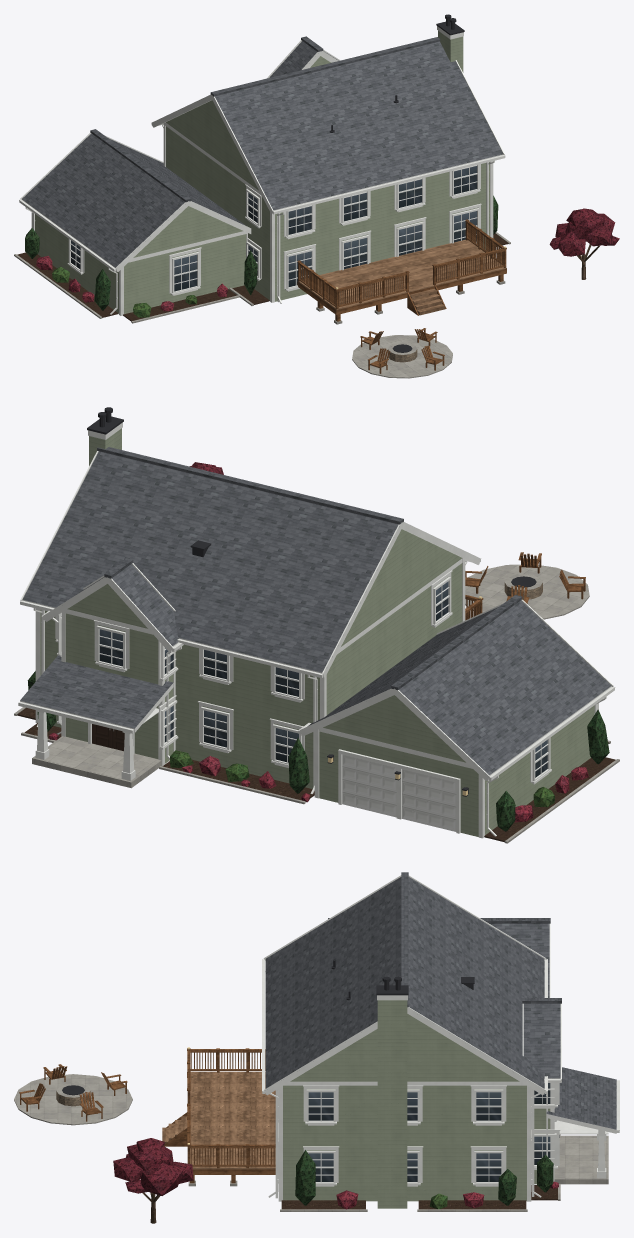
Rendered from se_suburban_sage.fbx.
3 renders of one model, top to bottom at view 1: azimuth 30°, elevation 25°; view 2: azimuth 150°, elevation 25°; view 3: azimuth 270°, elevation 25°, orthographic. The views are drawn at different scales.
Visible parts, largest first — view 1: se_suburban_sage_LOD0; view 2: se_suburban_sage_LOD0; view 3: se_suburban_sage_LOD0.
Boxes of the visible parts, box(x1,y1,x2,y2) form: se_suburban_sage_LOD0: box(14, 14, 619, 378); se_suburban_sage_LOD0: box(14, 407, 619, 843); se_suburban_sage_LOD0: box(14, 872, 619, 1223).
Size of what is drawn, in the model's own units: 25.72 by 10.96 by 26.5.
2 materials, 2 textured.
